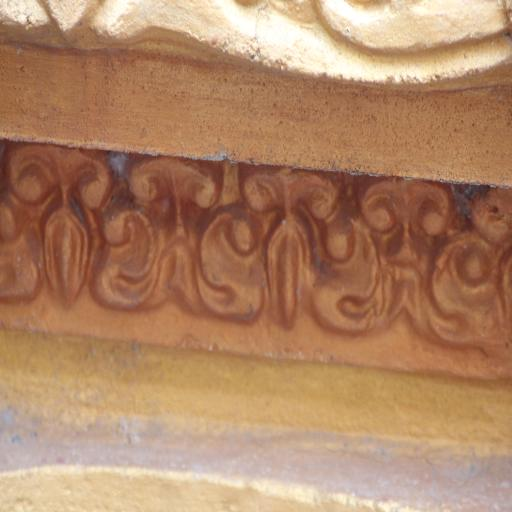la: (201, 162, 382, 336), (119, 148, 240, 327), (0, 152, 119, 310), (366, 170, 458, 344), (459, 178, 512, 347)
